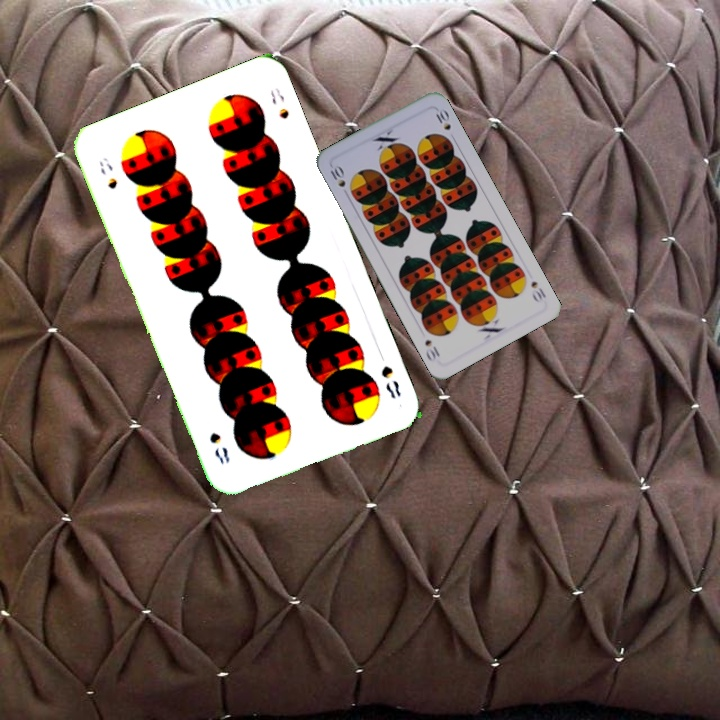S10: (324, 161, 351, 199), (527, 277, 549, 305)
S8: (377, 361, 404, 402), (95, 153, 120, 192)
